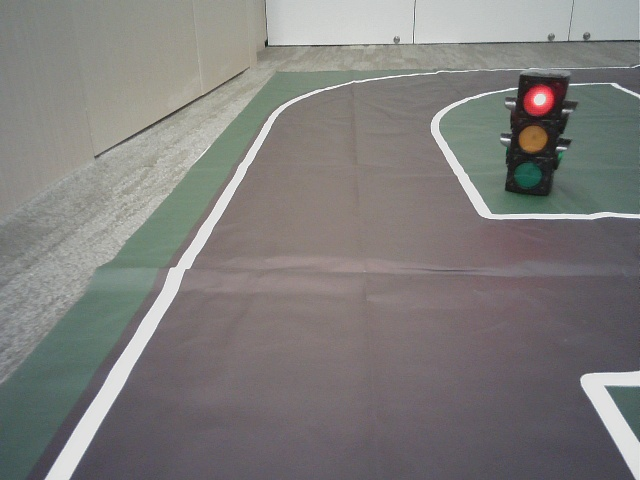red: (510, 83, 552, 192)
